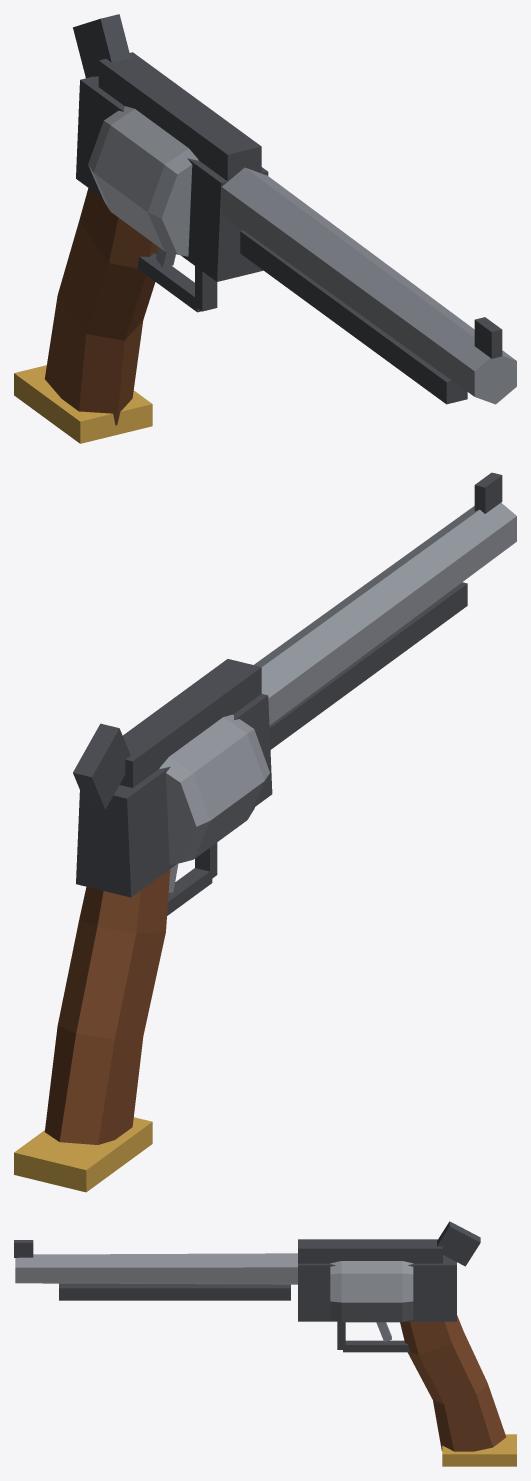
Rendered from SM_Revolver.fbx.
3 renders of one model, top to bottom at view 1: azimuth 30°, elevation 25°; view 2: azimuth 150°, elevation 25°; view 3: azimuth 270°, elevation 25°, orthographic. The views are drawn at different scales.
Parts seen in each view (by area): view 1: Prop_Revolver; view 2: Prop_Revolver; view 3: Prop_Revolver.
Boxes of the visible parts, <box> form: Prop_Revolver: <box>14,14,516,443</box>; Prop_Revolver: <box>14,472,516,1192</box>; Prop_Revolver: <box>14,1221,516,1466</box>.
Size of the model in its own units: 6.88 by 45.5 by 23.25.
